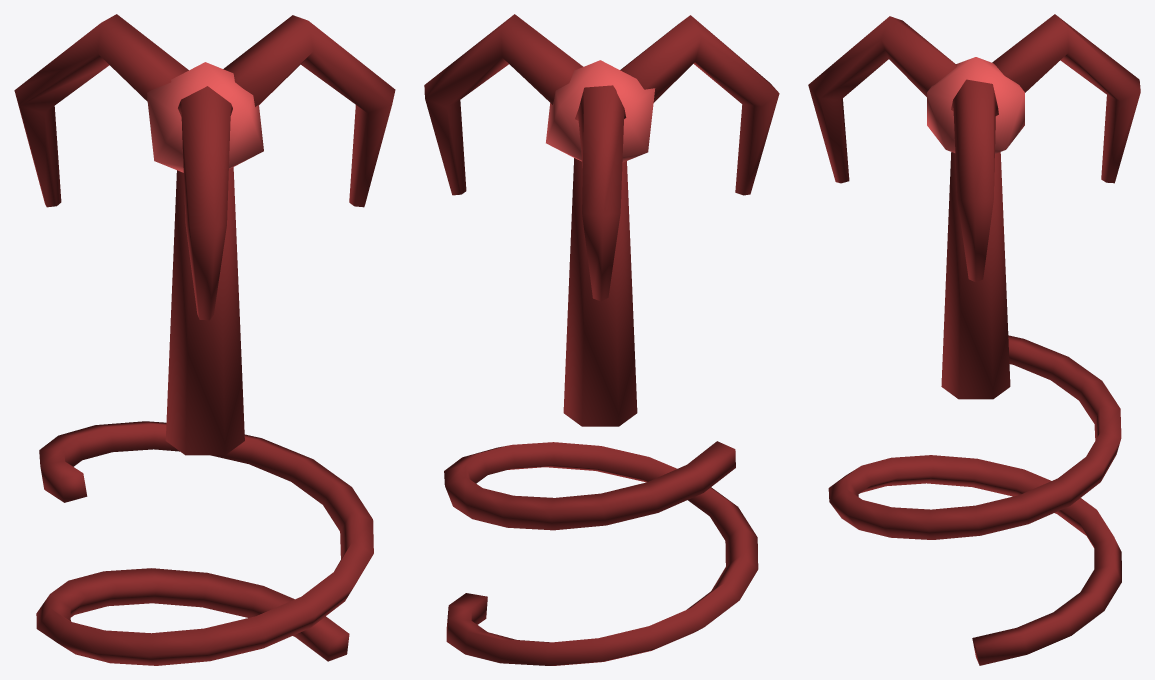
The model's file is tendon_hook.glb.
3 renders of one model, left to right at view 1: azimuth 30°, elevation 25°; view 2: azimuth 150°, elevation 25°; view 3: azimuth 270°, elevation 25°, orthographic. The views are drawn at different scales.
Parts seen in each view (by area): view 1: tendon_hook_v0; view 2: tendon_hook_v0; view 3: tendon_hook_v0.
Part boxes in pixels (x1,y1,x2,y2): tendon_hook_v0: (14,14,395,665); tendon_hook_v0: (424,14,779,665); tendon_hook_v0: (808,14,1140,665).
Size of the model in its own units: 0.1774 by 0.3275 by 0.1736.
